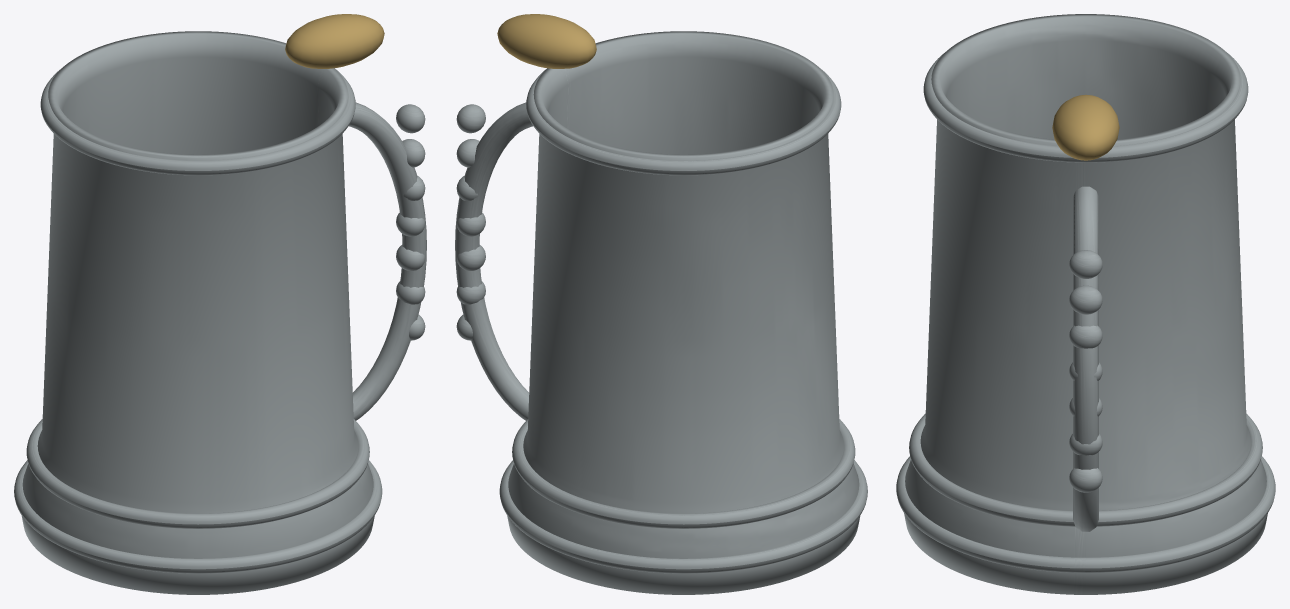
The model's file is cookware__metal_tankard.glb.
3 renders of one model, left to right at view 1: azimuth 30°, elevation 25°; view 2: azimuth 150°, elevation 25°; view 3: azimuth 270°, elevation 25°, orthographic. The views are drawn at different scales.
Visible parts, largest first — view 1: cup; view 2: cup; view 3: cup.
Part boxes in pixels (bbox=[...]): cup: bbox=[14, 14, 426, 594]; cup: bbox=[455, 14, 867, 594]; cup: bbox=[896, 14, 1275, 594].
Bounding box in the file's own units: 0.0819 × 0.0949 × 0.0677.
2 materials, 1 textured.
